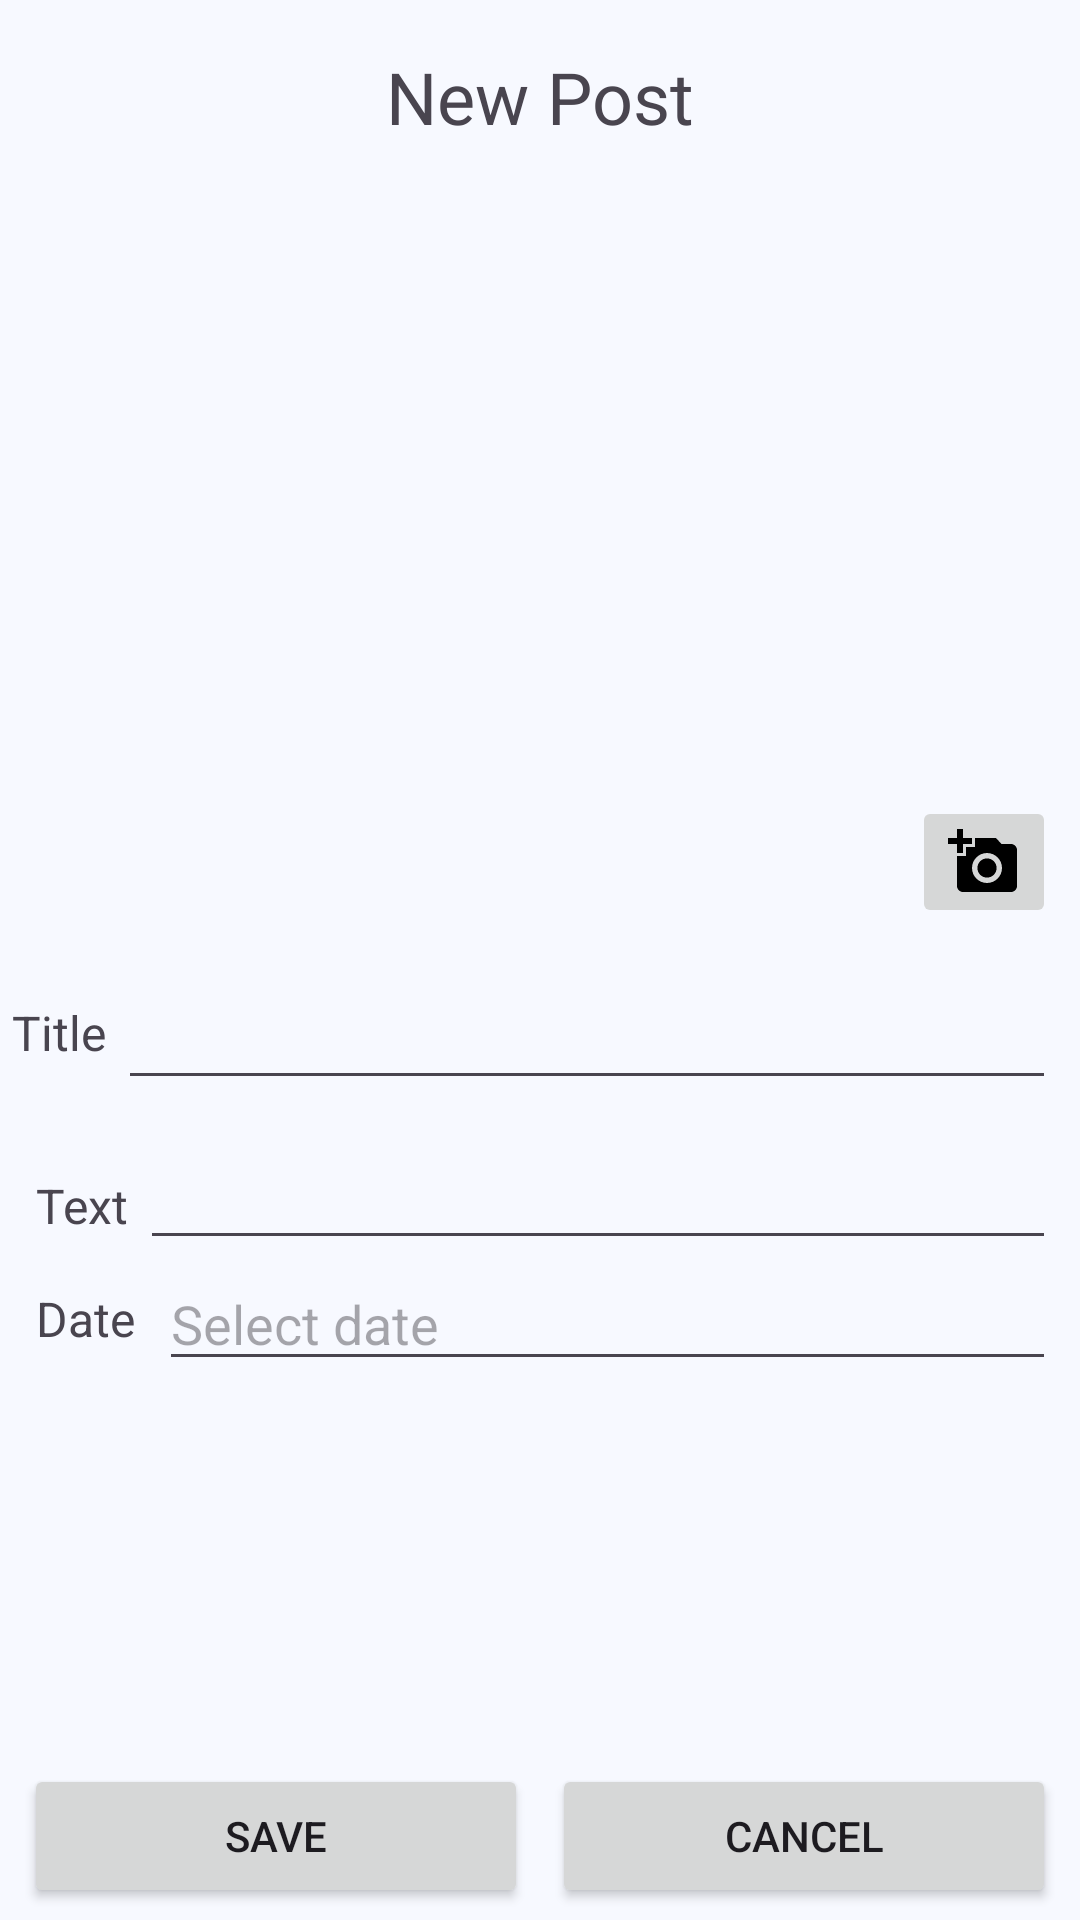

Icons on this 1080*1920 Android screen, each with the point to tap as (x,y):
add photo: (984,862)
